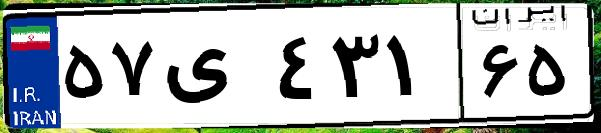1: (385, 28, 445, 110)
3: (330, 28, 385, 110)
4: (270, 28, 330, 110)
5: (57, 26, 110, 100), (525, 38, 570, 115)
6: (475, 38, 525, 113)
7: (110, 28, 158, 98)
ی: (158, 20, 270, 120)
